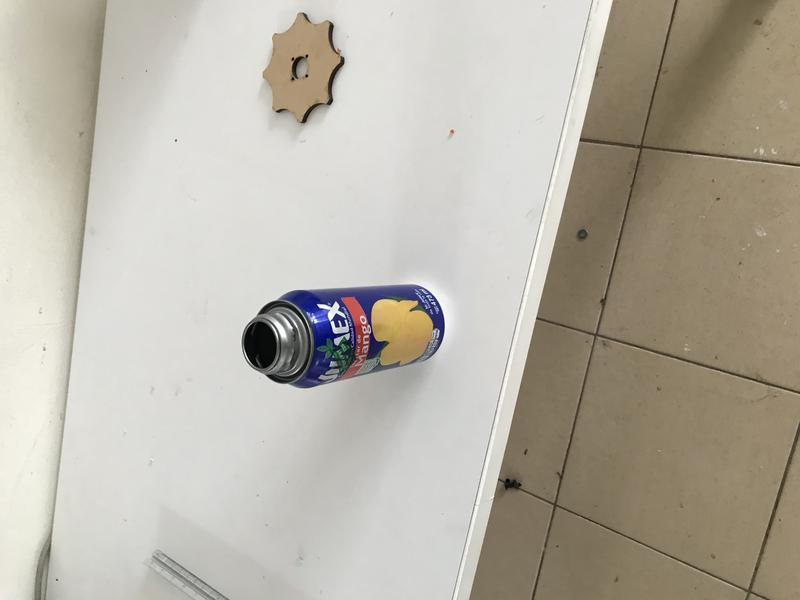jumex_botella: (242, 284, 445, 387)
